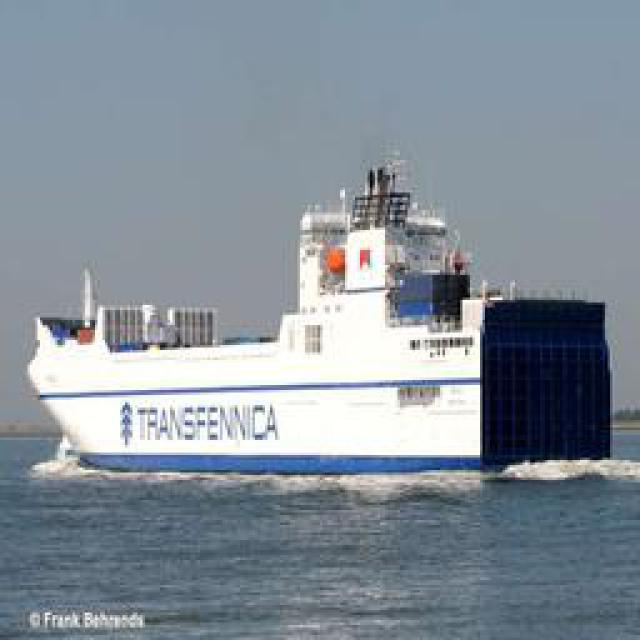Ship: (13, 164, 628, 494)
